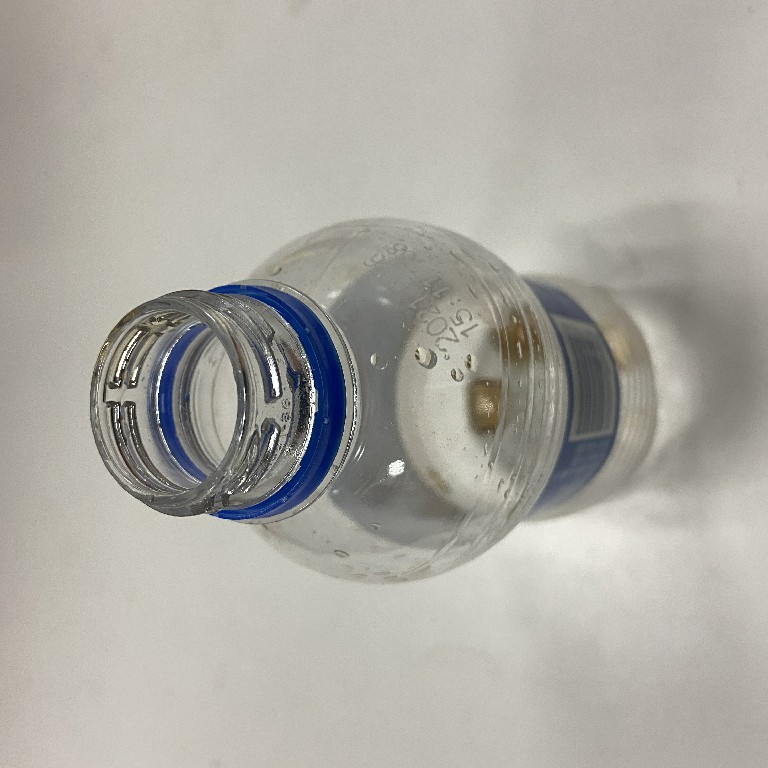bottle: (79, 214, 661, 590)
